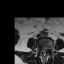CCS_normal: (43, 49, 45, 57)
LFS_severe_stenosis: (47, 47, 49, 52)
LLS_severe_stenosis: (45, 48, 47, 54)
RFS_severe_stenosis: (39, 47, 41, 52)
RLS_severe_stenosis: (41, 48, 43, 54)
